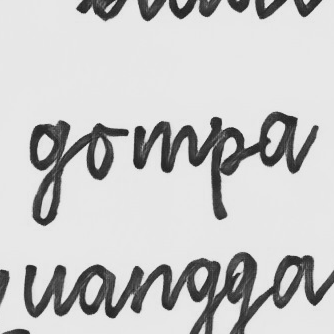a: (256, 109, 300, 171)
g: (26, 118, 76, 228)
m: (131, 118, 200, 176)
o: (83, 124, 119, 181)
p: (205, 115, 248, 222)
